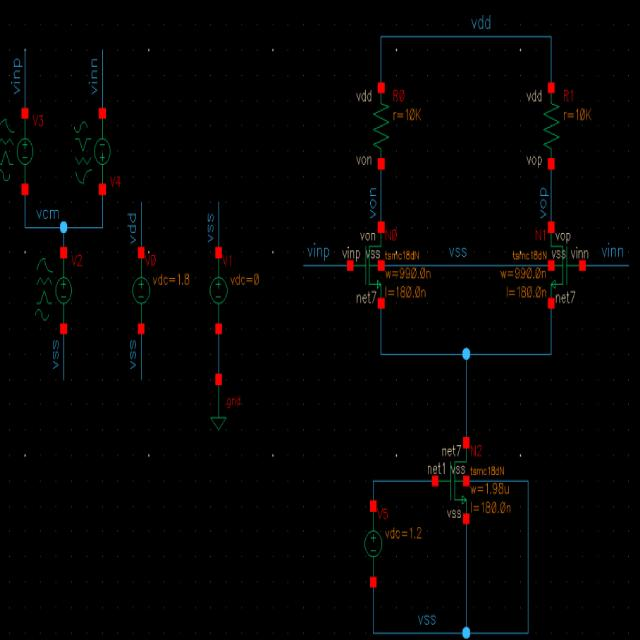gnd: (208, 374, 228, 434)
nmos: (545, 218, 586, 313), (344, 222, 386, 309), (432, 438, 472, 525)
res: (540, 79, 566, 176), (371, 80, 392, 176)
vdc: (205, 246, 232, 346), (360, 497, 386, 590), (128, 246, 153, 336), (14, 110, 37, 207), (91, 108, 114, 202), (54, 244, 74, 342)
